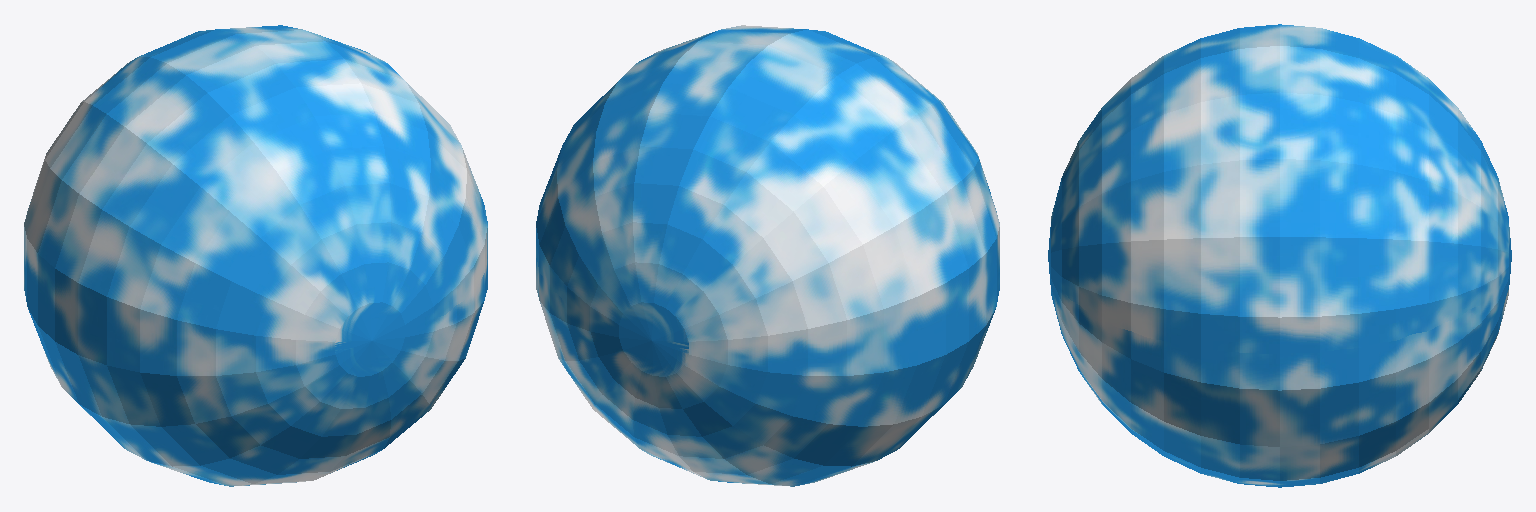
The picture shows the model from 3 angles: view 1: azimuth 30°, elevation 25°; view 2: azimuth 150°, elevation 25°; view 3: azimuth 270°, elevation 25°; orthographic projection.
Parts seen in each view (by area): view 1: Vertex_Object; view 2: Vertex_Object; view 3: Vertex_Object.
Boxes of the visible parts, <box> form: Vertex_Object: <box>24,25,487,486</box>; Vertex_Object: <box>536,25,999,486</box>; Vertex_Object: <box>1048,24,1511,487</box>.
Bounding box in the file's own units: 600 × 600 × 600.
Materials: 1 (1 with a texture image).